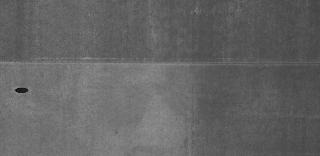punching hole: (14, 85, 36, 95)
welding line: (3, 58, 320, 70)
